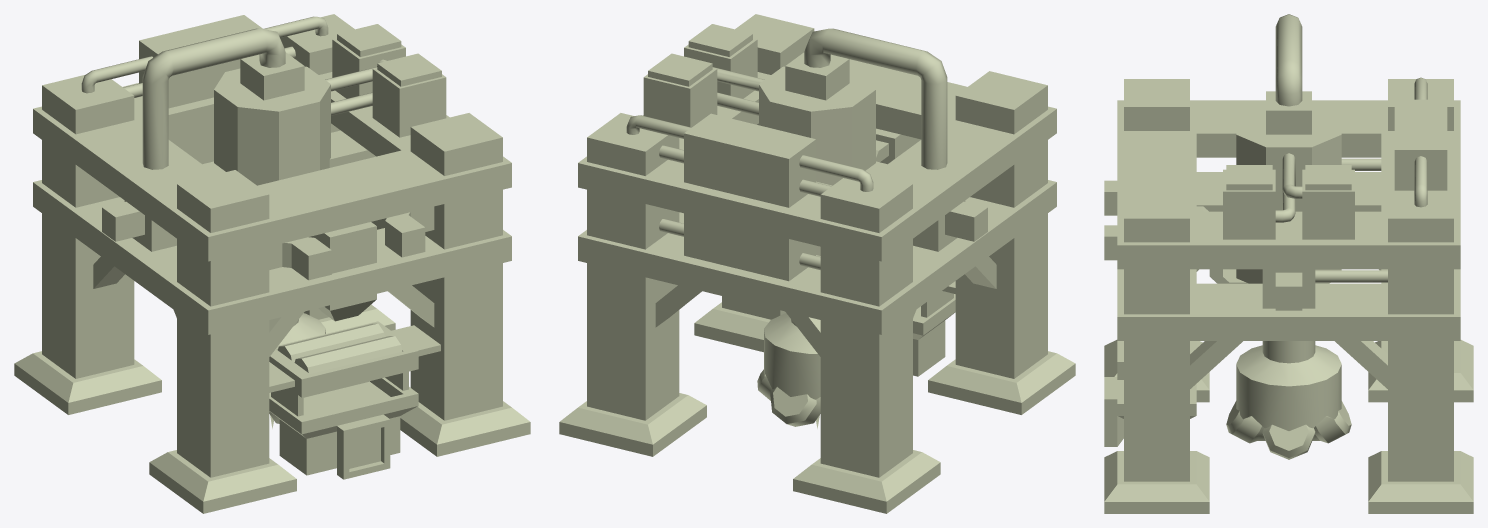
Rendered from mining_drill.obj.
3 views of the same model, side by side, from view 1: azimuth 30°, elevation 25°; view 2: azimuth 150°, elevation 25°; view 3: azimuth 270°, elevation 25° (orthographic). The views are drawn at different scales.
Parts seen in each view (by area): view 1: Main, Crusher1, Crusher2, Drillbit; view 2: Main, Drillbit; view 3: Main, Drillbit, Shaft.
Part boxes in pixels (x1,y1,x2,y2): Main: [14, 14, 530, 513]; Crusher1: [294, 336, 402, 373]; Crusher2: [278, 323, 384, 362]; Drillbit: [269, 313, 325, 428]; Main: [559, 14, 1075, 513]; Drillbit: [757, 313, 820, 428]; Main: [1104, 14, 1473, 513]; Drillbit: [1226, 345, 1351, 459]; Shaft: [1262, 341, 1315, 363].
Size of the model in its own units: 7 by 8.25 by 7.
